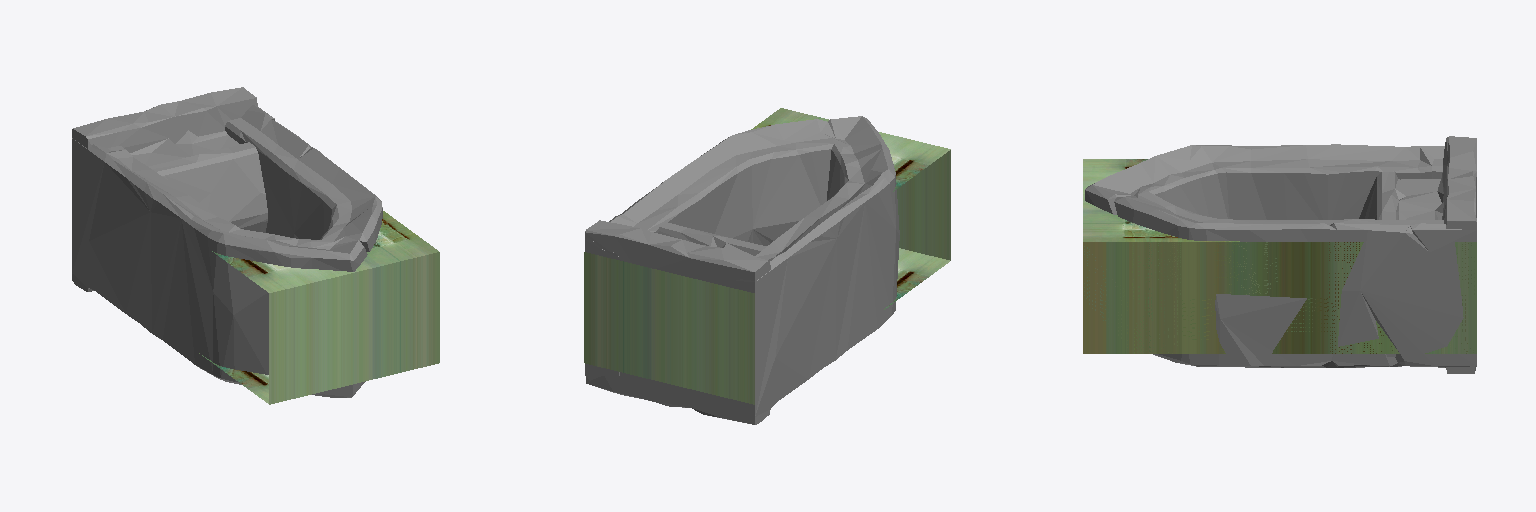
The picture shows the model from 3 angles: view 1: azimuth 30°, elevation 25°; view 2: azimuth 150°, elevation 25°; view 3: azimuth 270°, elevation 25°; orthographic projection.
Visible parts, largest first — view 1: Dn_HL_Ruins_Wall_Arch_8Mx4M_A; view 2: Dn_HL_Ruins_Wall_Arch_8Mx4M_A; view 3: Dn_HL_Ruins_Wall_Arch_8Mx4M_A.
Boxes of the visible parts, x1,y1,x2,y2 form: Dn_HL_Ruins_Wall_Arch_8Mx4M_A: [72, 87, 439, 404]; Dn_HL_Ruins_Wall_Arch_8Mx4M_A: [584, 108, 950, 424]; Dn_HL_Ruins_Wall_Arch_8Mx4M_A: [1083, 136, 1476, 373].
Bounding box in the file's own units: 4.1 × 3.61 × 8.
Materials: 2 (1 with a texture image).